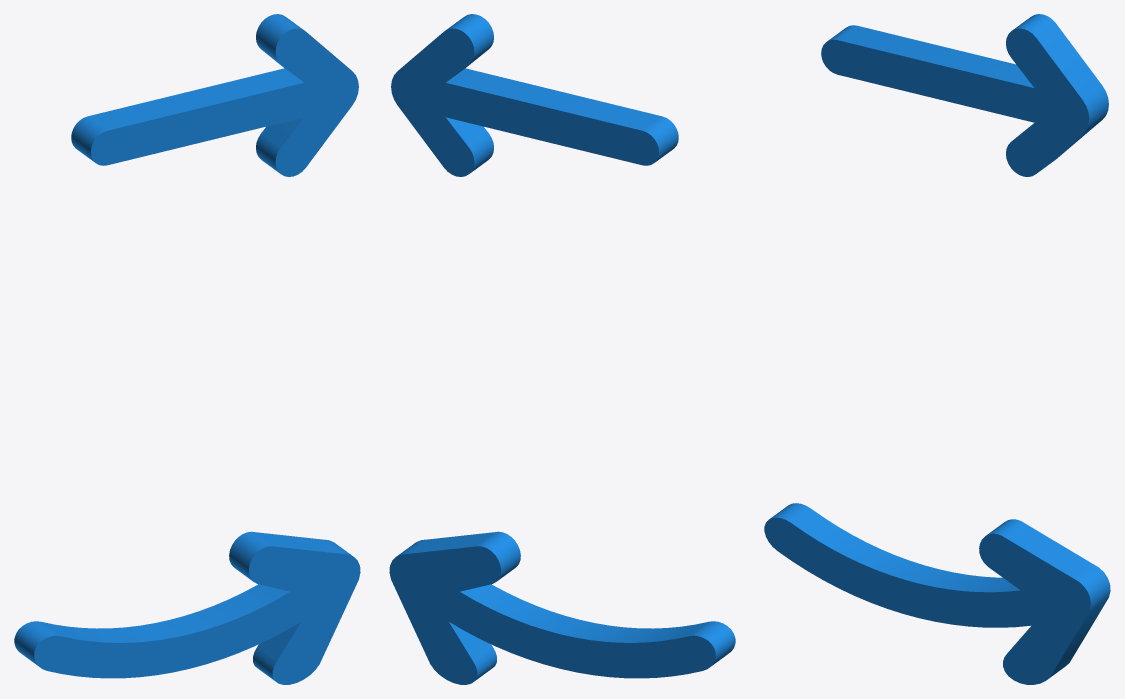
Rendered from arrows.fbx.
3 renders of one model, left to right at view 1: azimuth 30°, elevation 25°; view 2: azimuth 150°, elevation 25°; view 3: azimuth 330°, elevation 25°, orthographic.
Parts seen in each view (by area): view 1: Arrow16, Arrow06; view 2: Arrow16, Arrow06; view 3: Arrow16, Arrow06.
Boxes of the visible parts, x1,y1,x2,y2 form: Arrow16: (14, 531, 360, 684); Arrow06: (71, 14, 358, 176); Arrow16: (389, 531, 735, 684); Arrow06: (391, 14, 678, 176); Arrow16: (764, 503, 1110, 684); Arrow06: (821, 14, 1108, 176).
Bounding box in the file's own units: 34.03 × 65.27 × 3.57.
